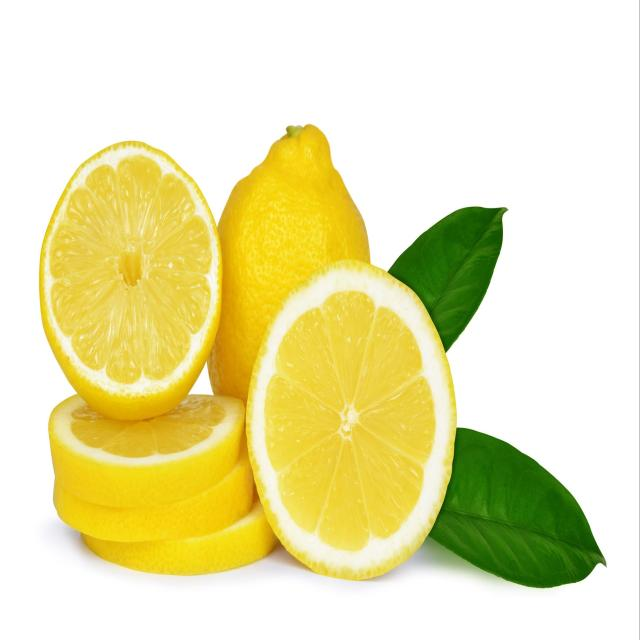lemon: (242, 256, 459, 588), (37, 135, 225, 427)
